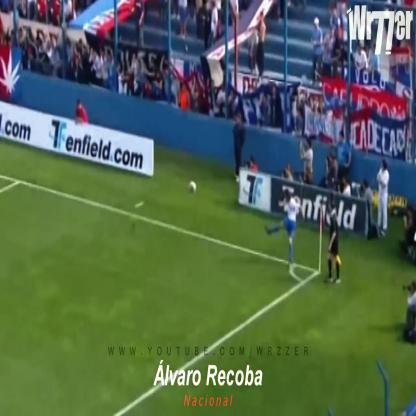corner kick: (270, 163, 349, 336)
